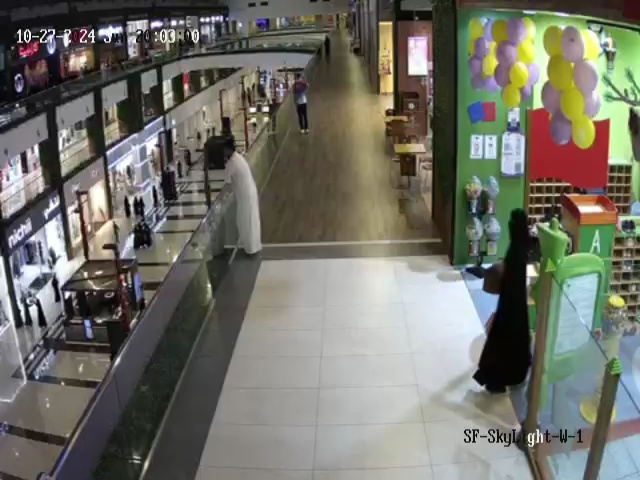female: (475, 206, 544, 400), (293, 73, 310, 135), (129, 222, 153, 254), (16, 288, 33, 329), (145, 185, 168, 214), (120, 187, 144, 212), (36, 301, 52, 333), (49, 273, 63, 306), (174, 152, 187, 187)
male: (222, 138, 263, 257)
